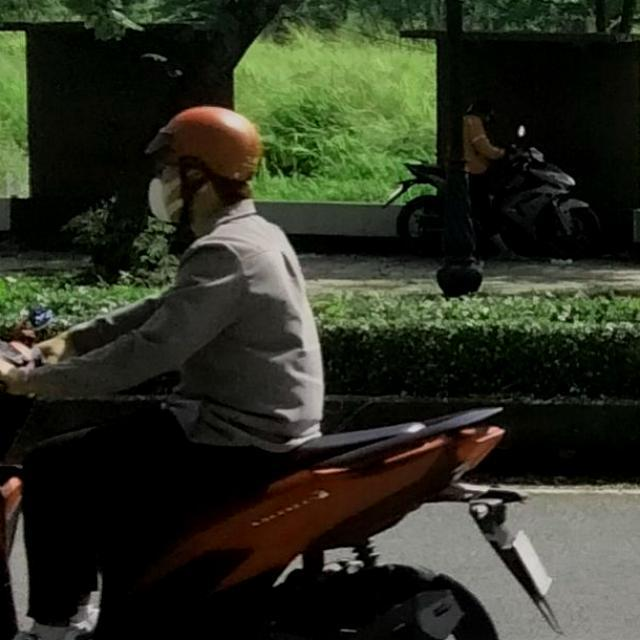Helmet: (142, 100, 262, 236)
